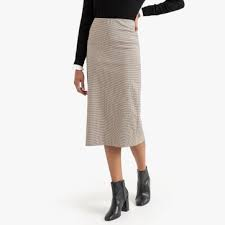C_skirt: (82, 17, 147, 150)
